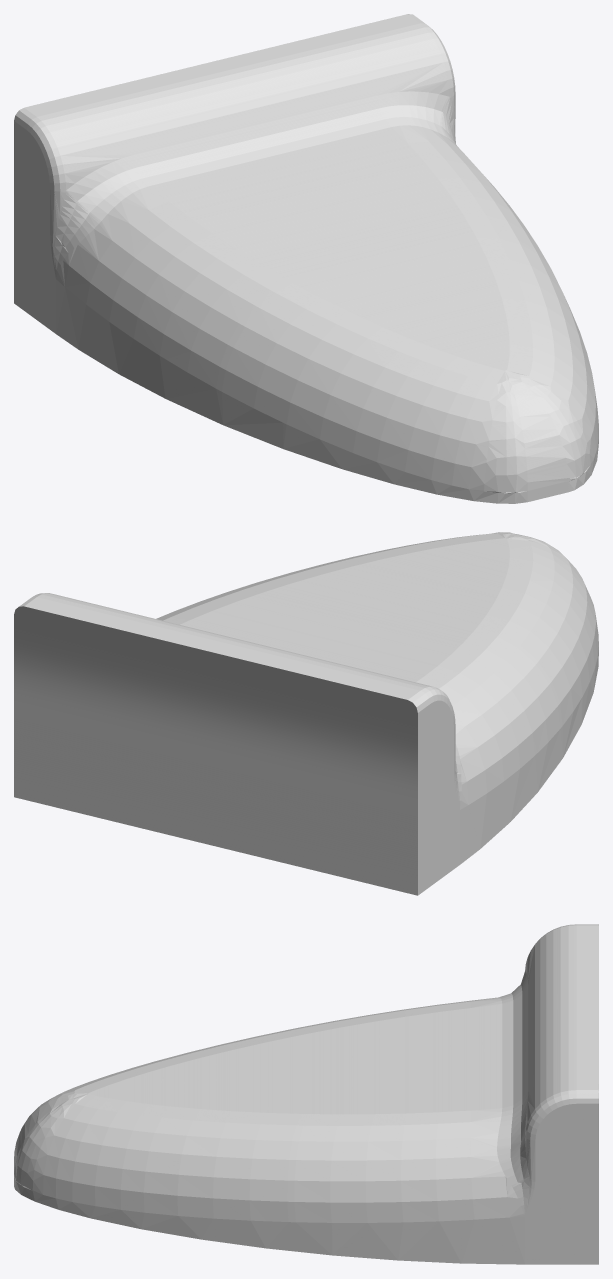
Rendered from finger_1_viz.dae.
3 views of the same model, one above another, from view 1: azimuth 30°, elevation 25°; view 2: azimuth 150°, elevation 25°; view 3: azimuth 270°, elevation 25° (orthographic). The views are drawn at different scales.
Parts seen in each view (by area): view 1: node; view 2: node; view 3: node.
Part boxes in pixels (x1,y1,x2,y2): node: (14, 14, 598, 503); node: (14, 532, 598, 895); node: (14, 924, 598, 1264).
Size of the model in its own units: 39.8 by 18.2 by 56.7.
Materials: 1 (1 with a texture image).
